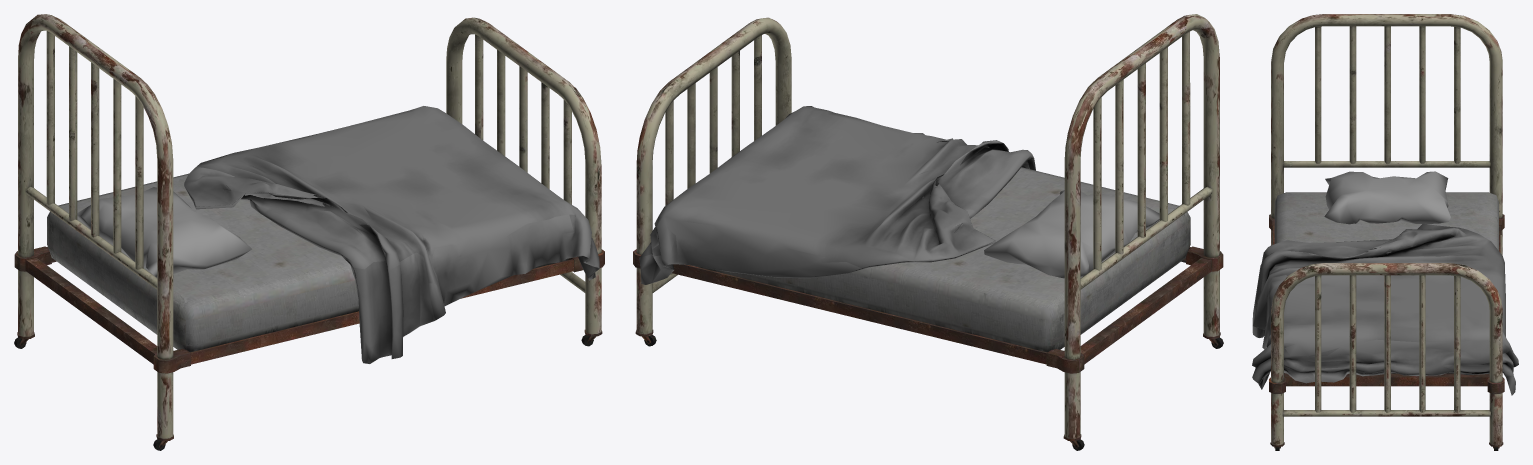
File: bed.glb
The picture shows the model from 3 angles, left to right: view 1: azimuth 30°, elevation 25°; view 2: azimuth 150°, elevation 25°; view 3: azimuth 270°, elevation 25°; orthographic projection. The views are drawn at different scales.
Visible parts, largest first — view 1: low_Pillow_1; view 2: low_Pillow_1; view 3: low_Pillow_1.
Boxes of the visible parts, x1,y1,x2,y2 form: low_Pillow_1: [14, 14, 604, 450]; low_Pillow_1: [633, 14, 1223, 450]; low_Pillow_1: [1252, 14, 1518, 450].
Size of the model in its own units: 187 by 139 by 123.
3 materials, 2 textured.
